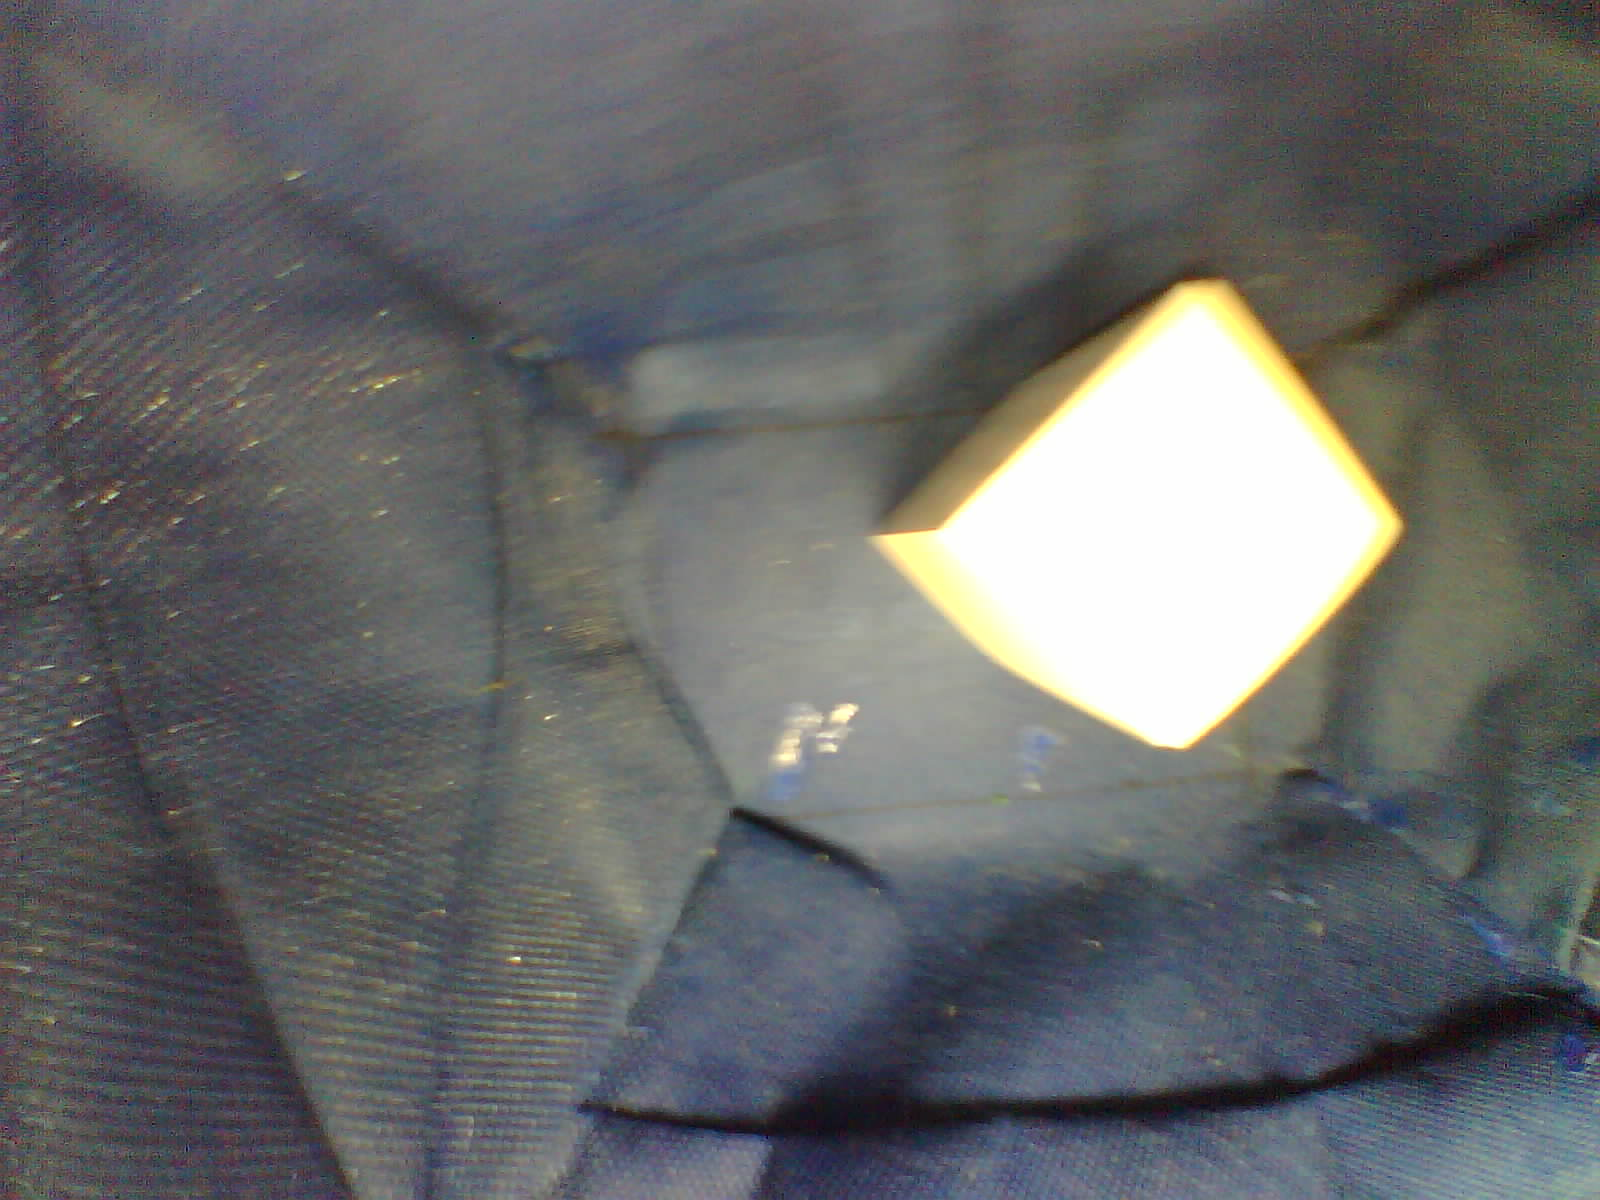cube-hard: (840, 242, 1417, 776)
